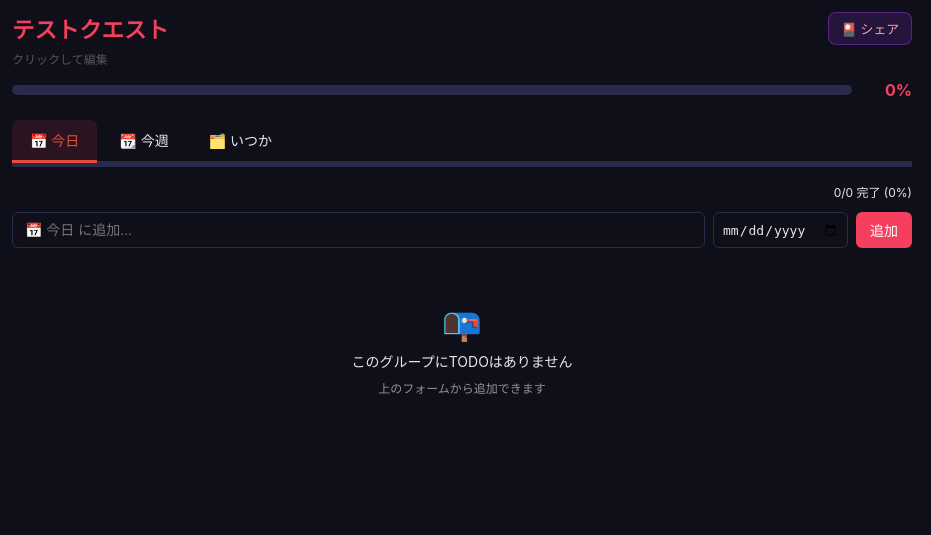
Test: QuestDetail › 空タイトルで保存するとエラーメッセージ
The image size is (931, 535).
Click the heading "テストクエスト".
click(90, 30)  # box x1=12 y1=16 x2=169 y2=43
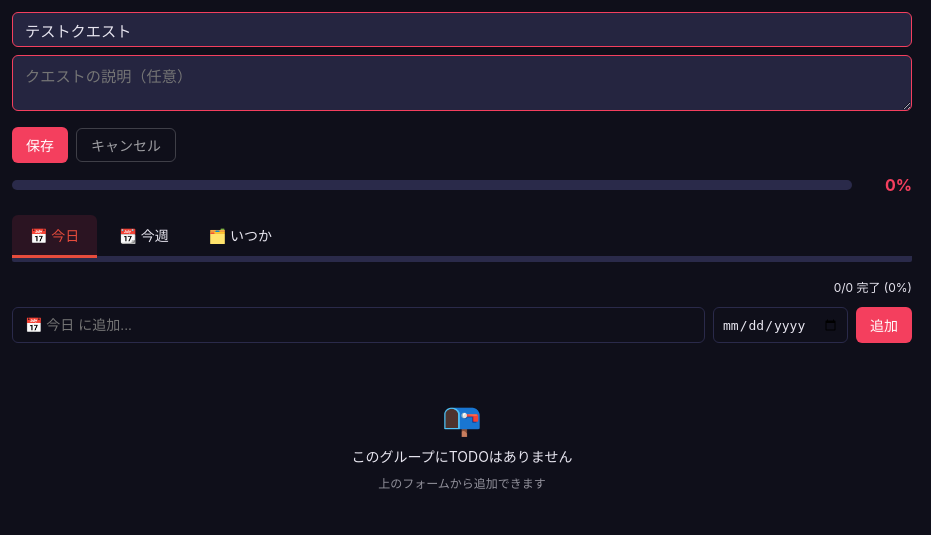
Clear the 1st field at point(462, 30), box x1=12 y1=12 x2=912 y2=47
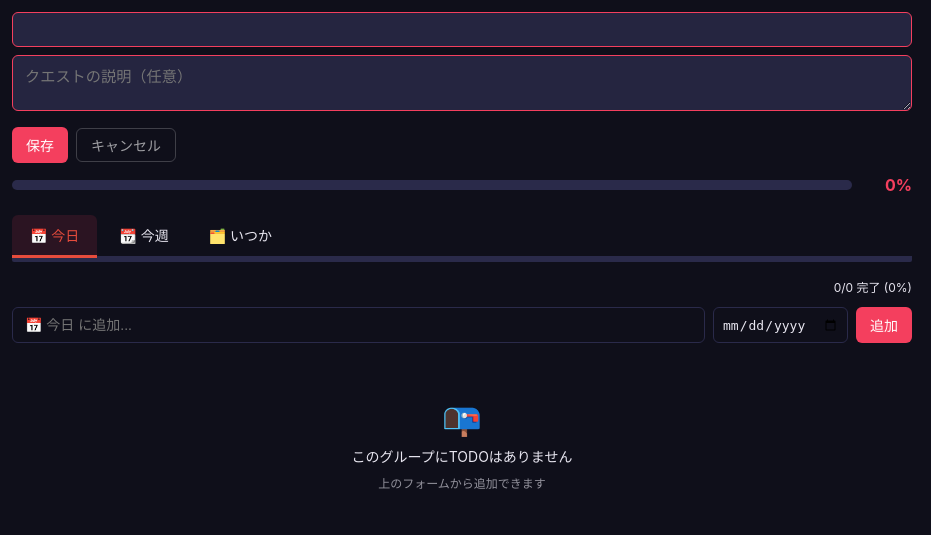
Click the button "保存".
click(40, 145)  # box x1=12 y1=127 x2=68 y2=163
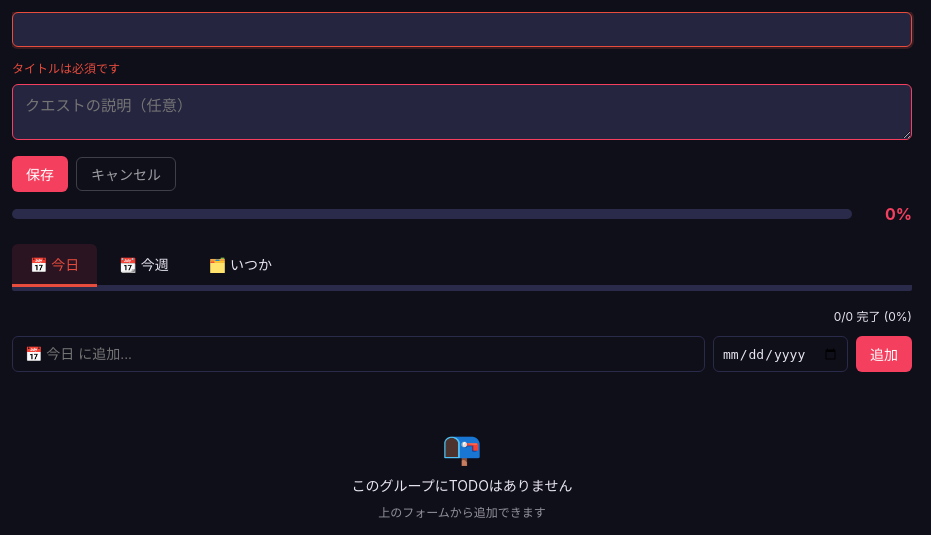
Result: the text "タイトルは必須です" is shown at x1=12 y1=61 x2=120 y2=76
